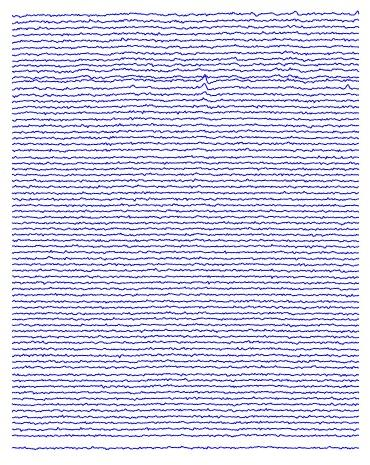defect: (198, 74, 217, 96)
